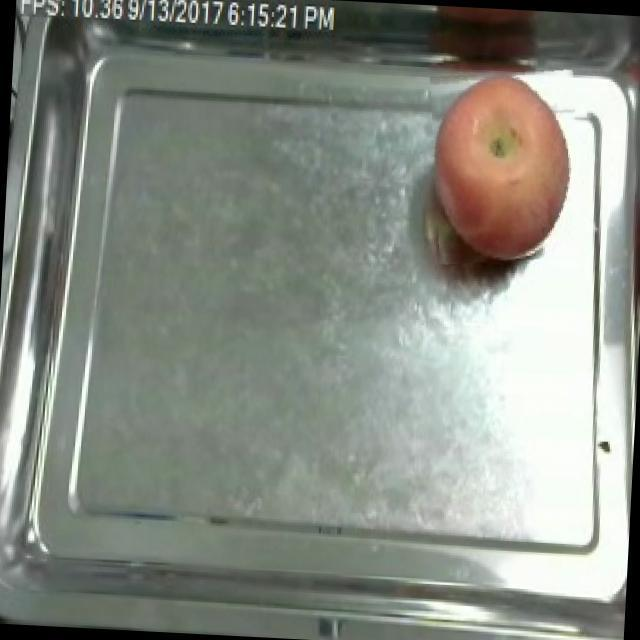apple: (433, 75, 570, 261)
